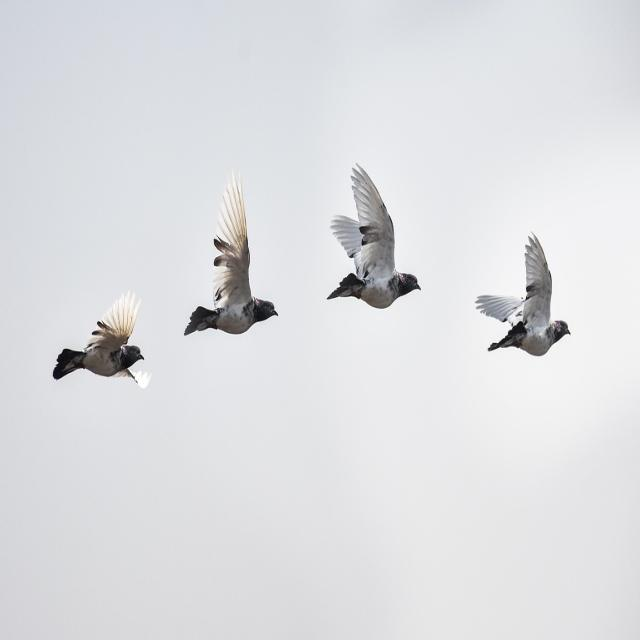pegion: (488, 210, 640, 441), (39, 228, 165, 498), (202, 148, 318, 423), (353, 130, 458, 353)
